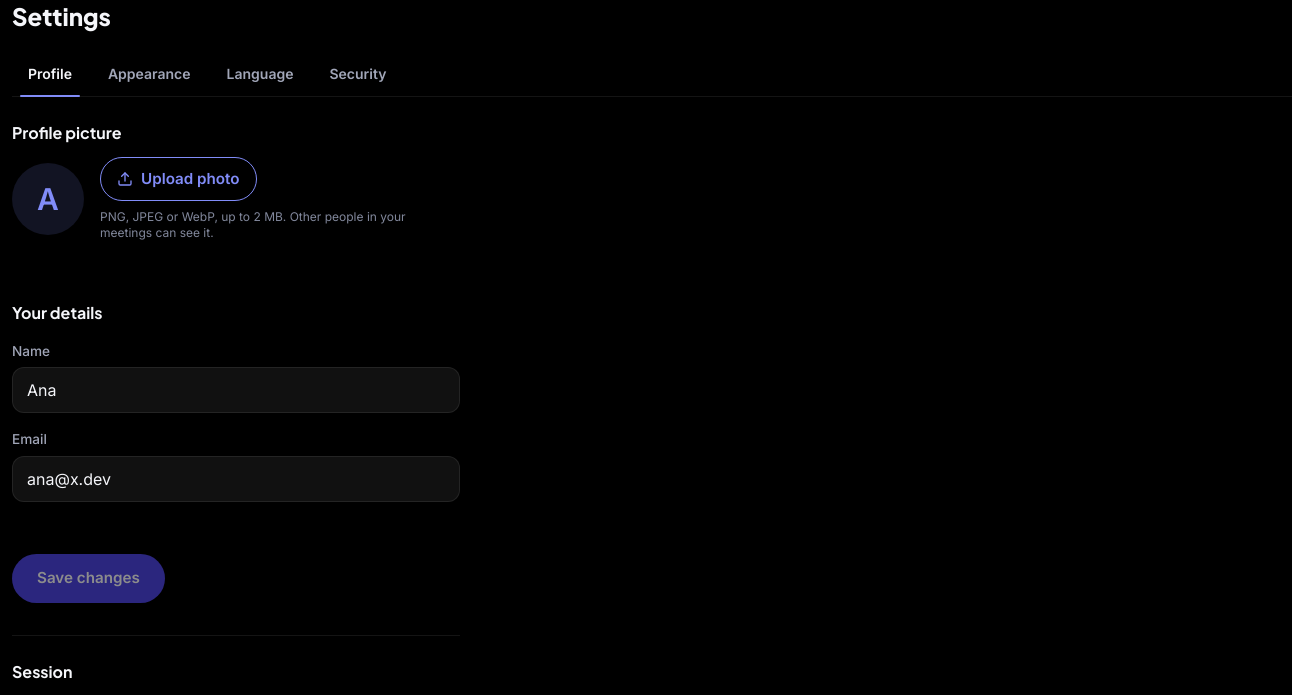
Test: Settings > Security: recent activity › lists your events with the device, time and address, and flags the suspicious ones
The width and height of the screenshot is (1292, 695).
Click the tab "Security" at [358, 74], box [314, 52, 402, 96]
(page scrolled)
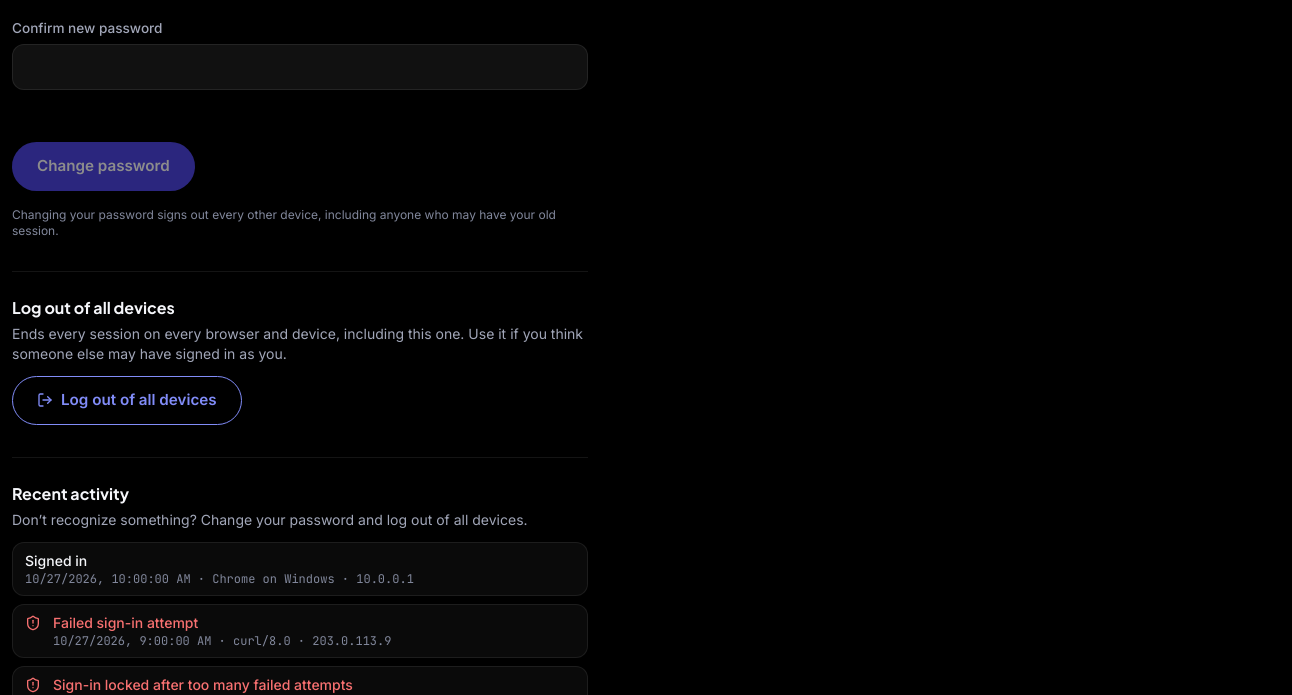
Expected: the text "Signed in" is shown, [25, 552, 87, 569]
Expected: the text "10/27/2026, 10:00:00 AM · Chrome on Windows · 10.0.0.1" is shown, [25, 571, 414, 587]
Expected: the text "Failed sign-in attempt" is shown, [53, 614, 198, 631]
